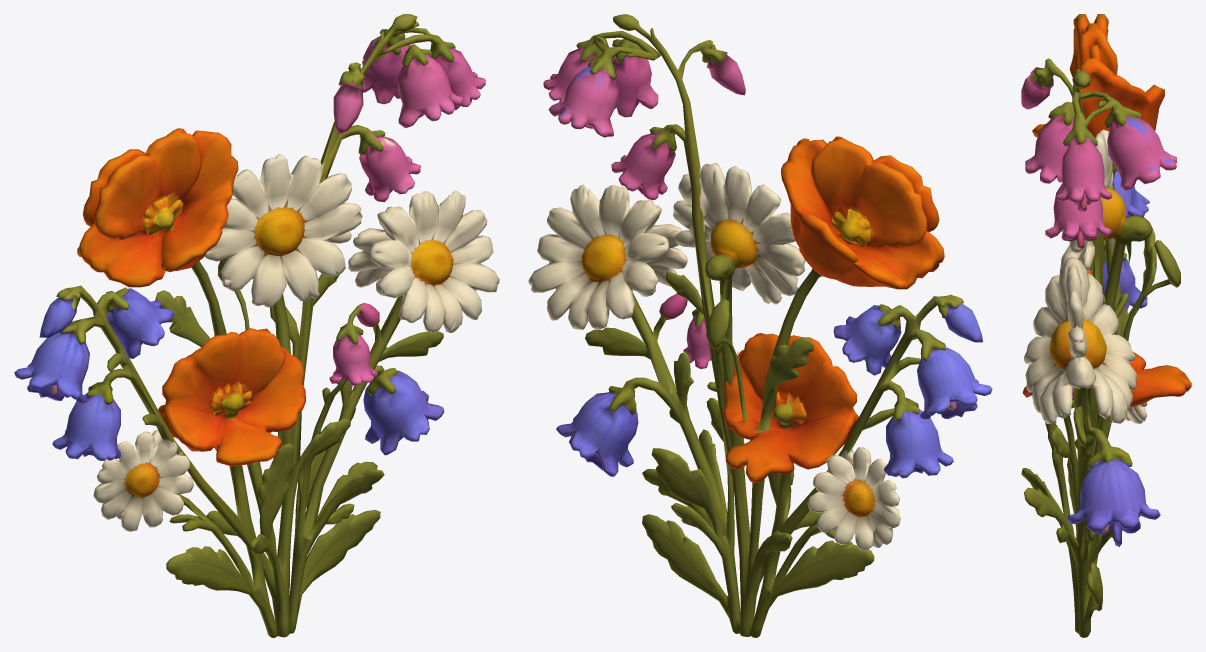
Rendered from flowers_cluster.glb.
The picture shows the model from 3 angles, left to right: view 1: azimuth 30°, elevation 25°; view 2: azimuth 150°, elevation 25°; view 3: azimuth 270°, elevation 25°; orthographic projection. The views are drawn at different scales.
Parts seen in each view (by area): view 1: tripo_node_1aeda22b-b321-480c-a8fd-23506ccf2b0a; view 2: tripo_node_1aeda22b-b321-480c-a8fd-23506ccf2b0a; view 3: tripo_node_1aeda22b-b321-480c-a8fd-23506ccf2b0a.
Part boxes in pixels (x1=…): tripo_node_1aeda22b-b321-480c-a8fd-23506ccf2b0a: x1=14, y1=14, x2=499, y2=637; tripo_node_1aeda22b-b321-480c-a8fd-23506ccf2b0a: x1=528, y1=14, x2=992, y2=637; tripo_node_1aeda22b-b321-480c-a8fd-23506ccf2b0a: x1=1021, y1=14, x2=1191, y2=637.
Size of the model in its own units: 0.7949 by 0.9788 by 0.2432.
Materials: 1 (1 with a texture image).
